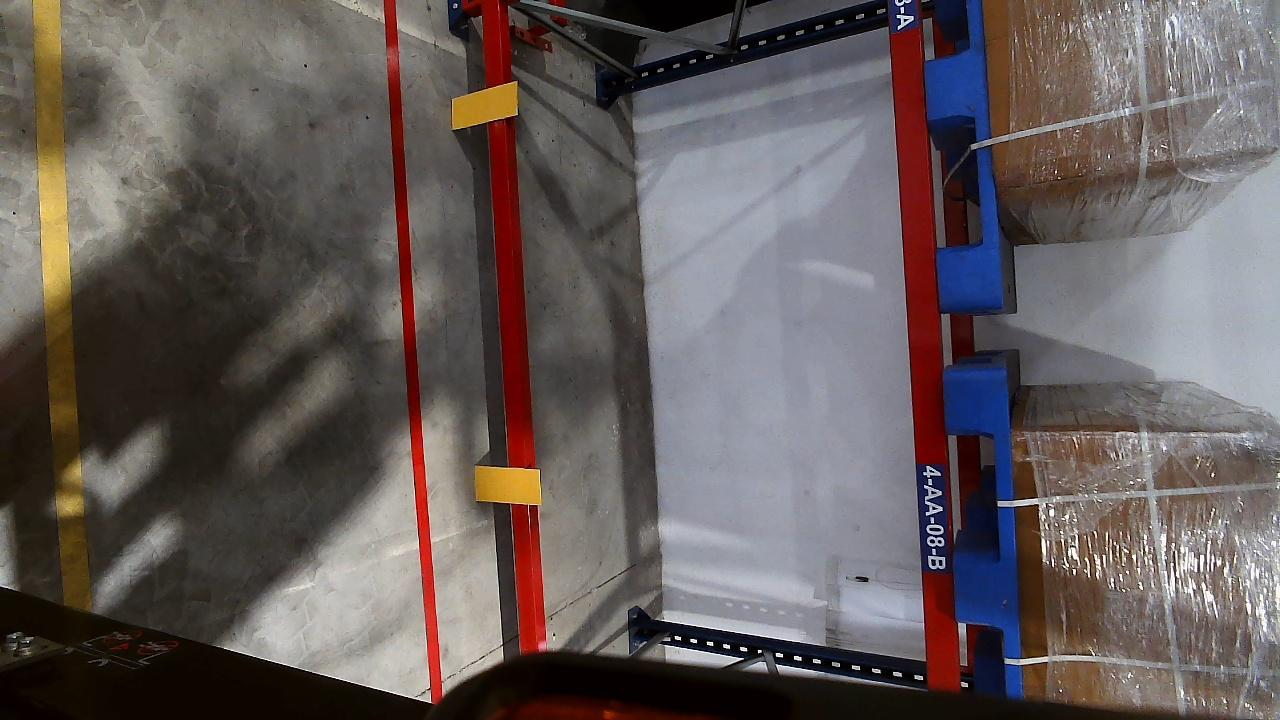h_rack: (480, 4, 550, 650), (890, 0, 955, 686)
orange_strip: (451, 82, 520, 129), (474, 466, 540, 505)
red_line: (375, 0, 449, 689)
small_pallet: (915, 2, 1008, 306), (942, 386, 1028, 691)
yellow_line: (27, 0, 85, 593)
